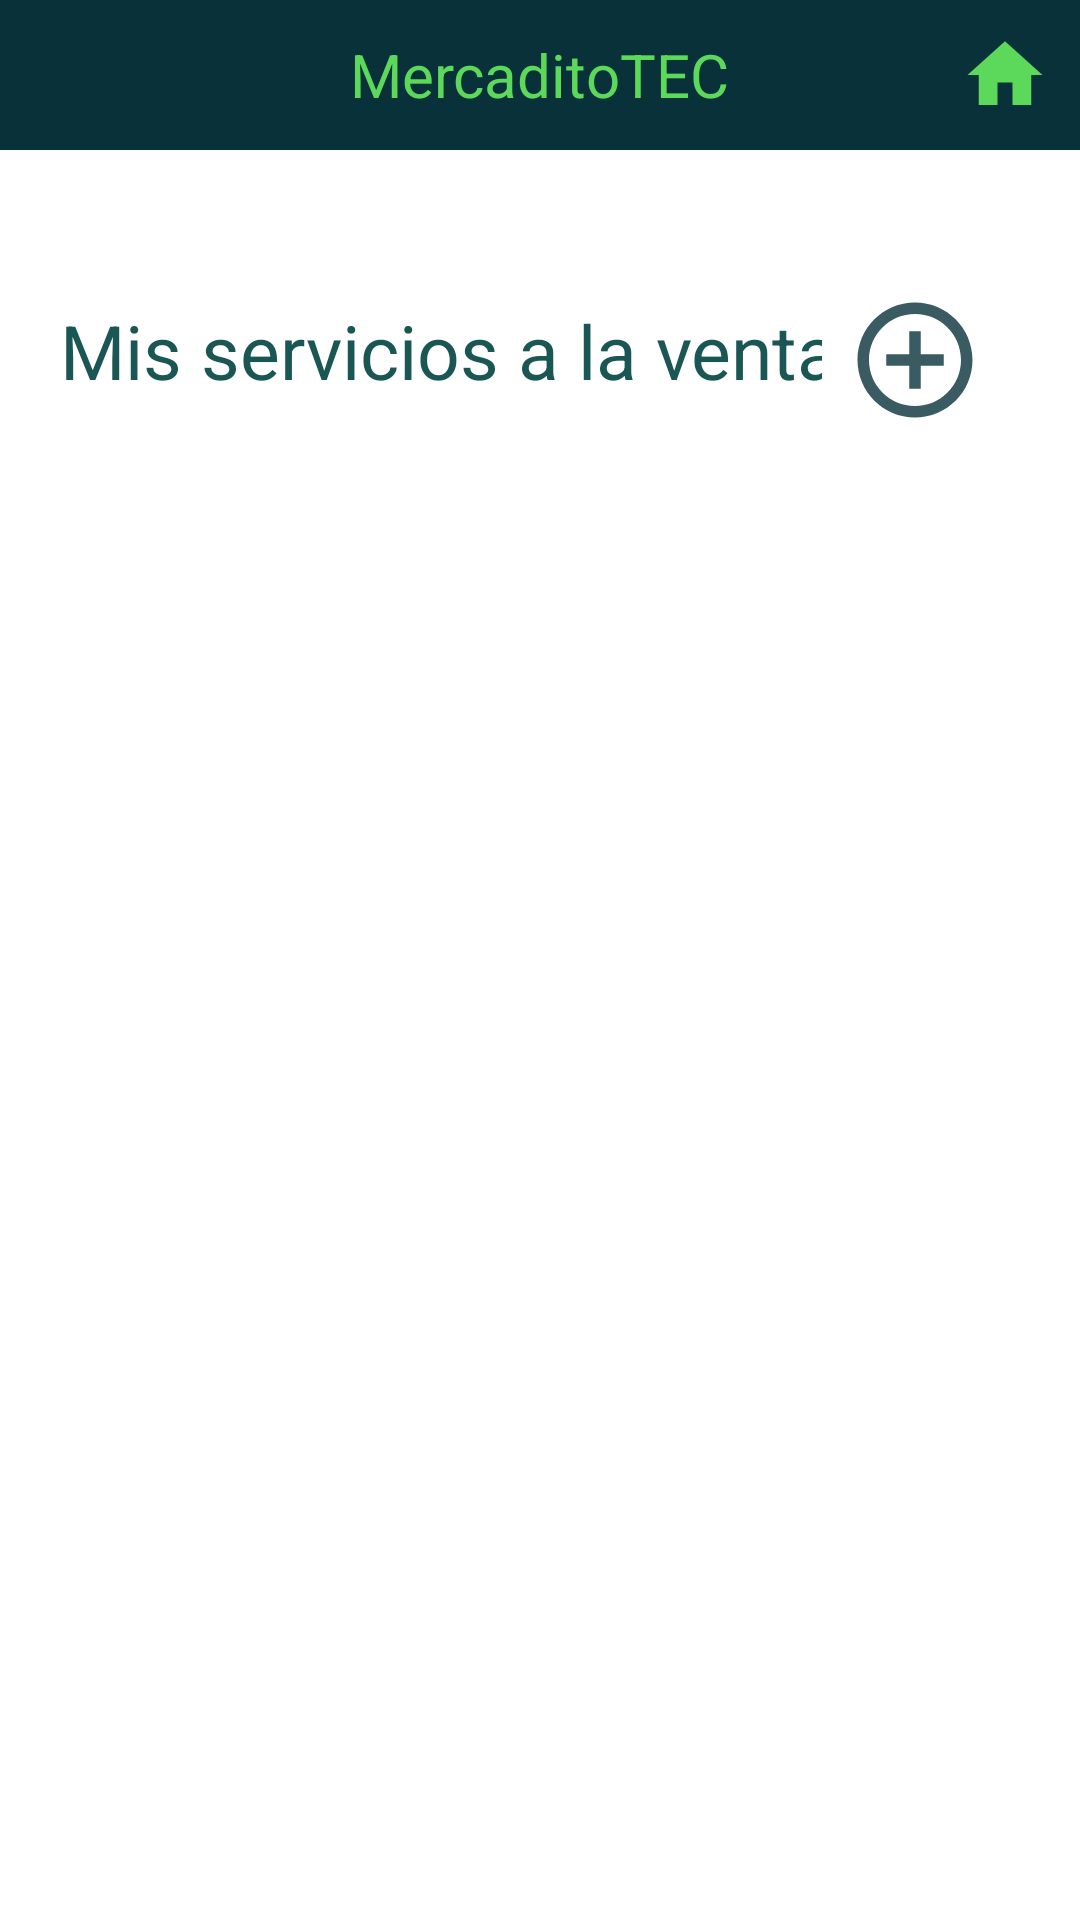

Locate icon controls on the screen. Image size 1080 x 1920, boxes as (x1, y1, x2, y2).
add: (857, 302, 973, 418)
home: (968, 41, 1042, 105)
